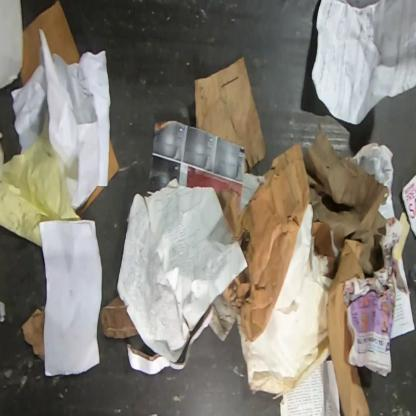cardboard: (222, 142, 310, 342), (195, 56, 267, 173), (327, 239, 371, 415), (20, 2, 81, 85), (100, 296, 139, 339), (312, 221, 339, 278), (21, 307, 45, 362), (76, 186, 104, 217), (108, 138, 119, 183)
